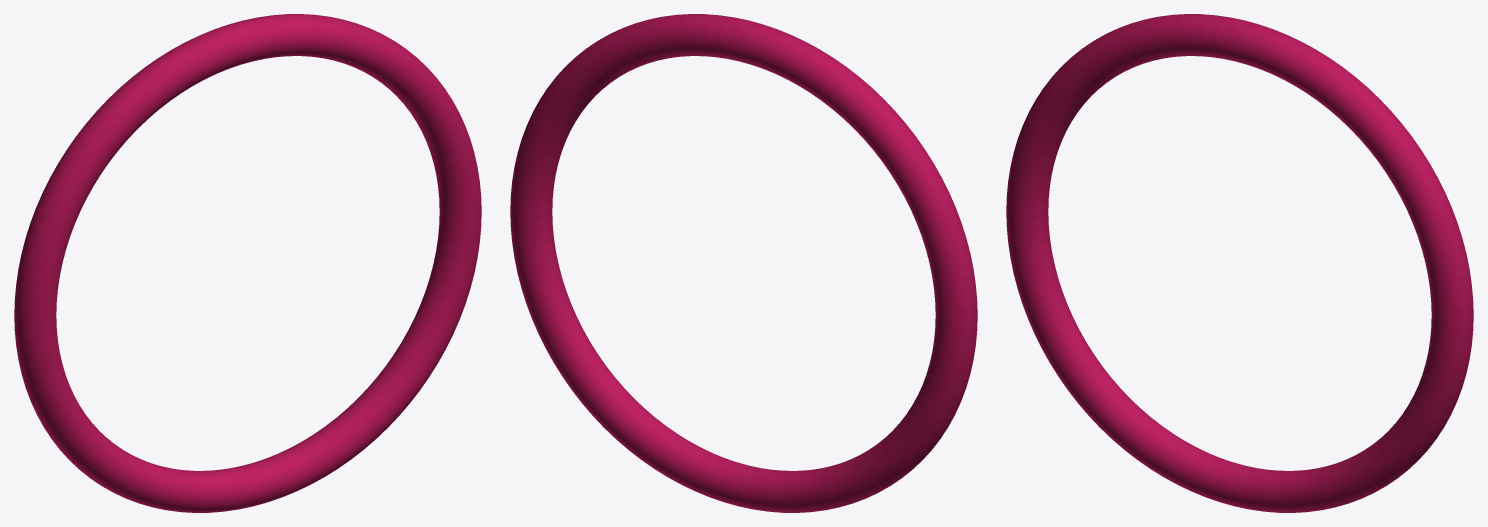
3 views of the same model, side by side, from view 1: azimuth 30°, elevation 25°; view 2: azimuth 150°, elevation 25°; view 3: azimuth 330°, elevation 25° (orthographic).
Visible parts, largest first — view 1: world; view 2: world; view 3: world.
Part boxes in pixels (x1,y1,x2,y2): world: [14, 14, 481, 512]; world: [510, 14, 977, 512]; world: [1006, 14, 1473, 512].
Bounding box in the file's own units: 25.33 × 25.33 × 2.
